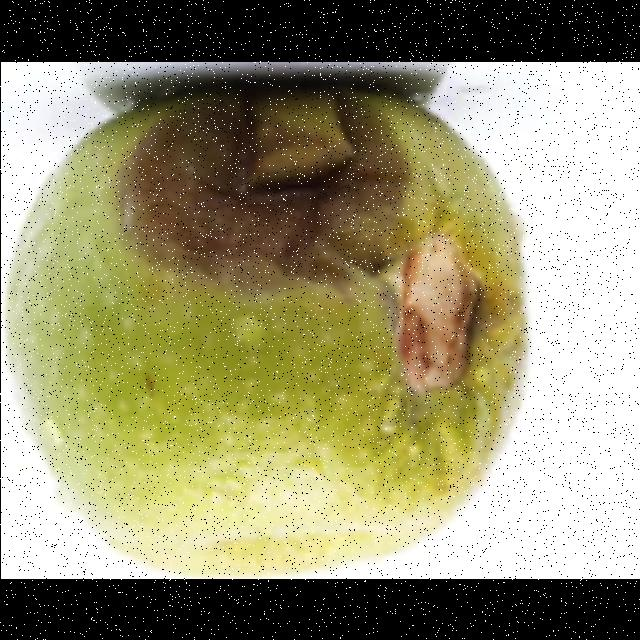Apel Tidak Segar: (0, 75, 530, 579)
